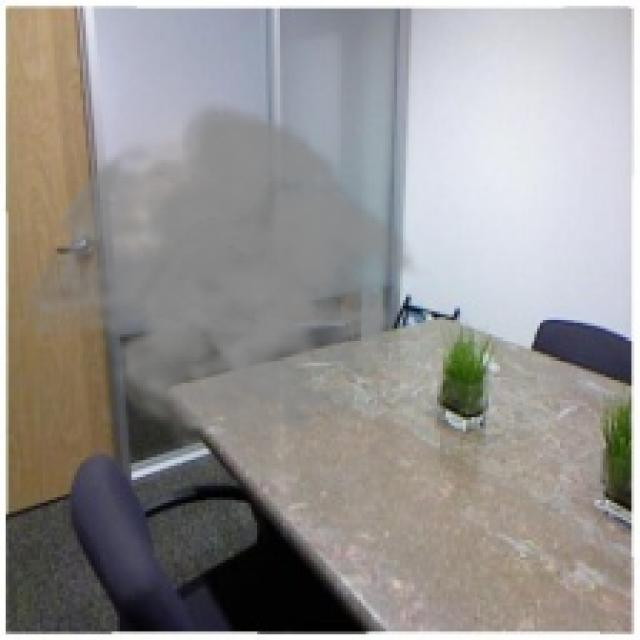smoke: (17, 100, 432, 454)
